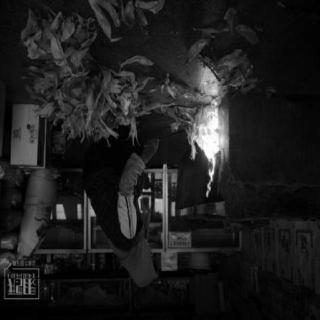Fire: (178, 96, 232, 200)
